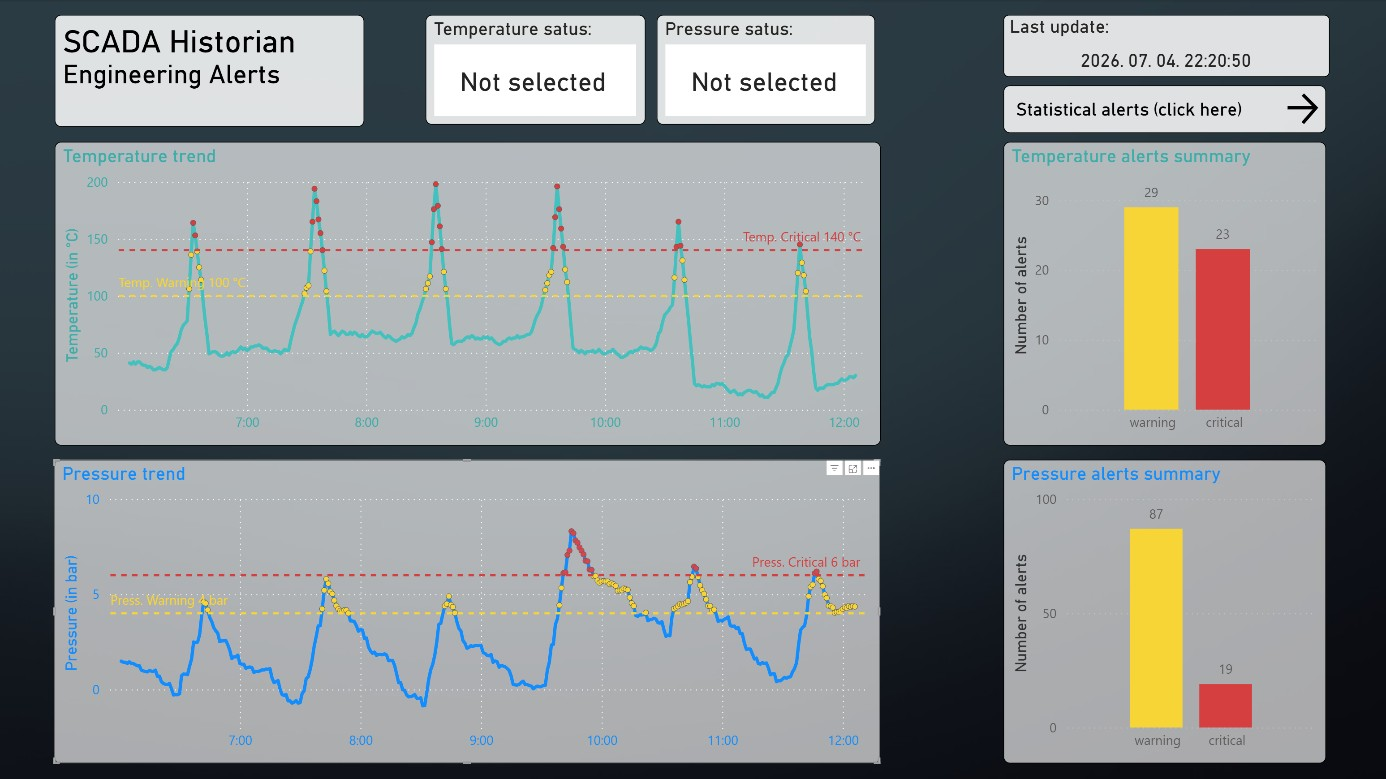

The page's visual inventory and layout, read from the dashboard file:
{"tool":"powerbi","page":{"name":"Engineering_alerts","canvas":[1280,720],"ordinal":0},"visuals":[{"type":"lineChart","title":"Temperature trend","fields":{"Y":["process_data.M_temp_warning","process_data.M_temp_critical","Sum(process_data.temperature)"],"Category":["process_data.timestamp"]},"box":[50.8,130.7,761.1,279.9],"z":0},{"type":"lineChart","title":"Pressure trend","fields":{"Y":["process_data.M_press_critical","process_data.M_press_warning","Sum(process_data.pressure)"],"Category":["process_data.timestamp"]},"box":[50.2,423.6,761.1,279.9],"z":1000},{"type":"textbox","box":[50.8,13.6,285.5,103.4],"z":2000},{"type":"actionButton","box":[925.2,78.6,297.3,44],"z":3000},{"type":"clusteredColumnChart","title":"Temperature alerts summary","fields":{"Category":["engineering_alerts.level"],"Y":["CountNonNull(engineering_alerts.value)"]},"box":[925.2,130.7,297.3,279.9],"z":4000},{"type":"clusteredColumnChart","title":"Pressure alerts summary","fields":{"Category":["engineering_alerts.level"],"Y":["CountNonNull(engineering_alerts.value)"]},"box":[925.2,423.6,297.3,279.9],"z":5000},{"type":"cardVisual","title":"Temperature satus:","fields":{"Data":["engineering_alerts.temp_text"]},"box":[392.6,13.6,202.5,101.6],"z":8000},{"type":"cardVisual","title":"Pressure satus:","fields":{"Data":["engineering_alerts.press_text"]},"box":[605.6,13.6,201.3,101.6],"z":8001},{"type":"cardVisual","title":"Last update:","fields":{"Data":["Min(Query1.UtolsoFrissites)"]},"box":[925.2,13.6,300.3,57.6],"z":8002}]}

Visuals, with their boxes in screenshot pixels (x1, y1, x2, y2), scaled from the page's 1280x720 canvas onto the 1386x779 screenshot:
"Temperature trend" lineChart: <bbox>55, 141, 879, 444</bbox>
"Pressure trend" lineChart: <bbox>54, 458, 878, 761</bbox>
textbox: <bbox>55, 15, 364, 127</bbox>
actionButton: <bbox>1002, 85, 1324, 133</bbox>
"Temperature alerts summary" clusteredColumnChart: <bbox>1002, 141, 1324, 444</bbox>
"Pressure alerts summary" clusteredColumnChart: <bbox>1002, 458, 1324, 761</bbox>
"Temperature satus:" cardVisual: <bbox>425, 15, 644, 125</bbox>
"Pressure satus:" cardVisual: <bbox>656, 15, 874, 125</bbox>
"Last update:" cardVisual: <bbox>1002, 15, 1327, 77</bbox>
